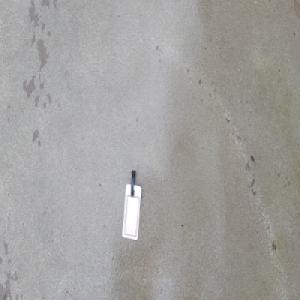LuggageTag: (121, 168, 141, 240)
